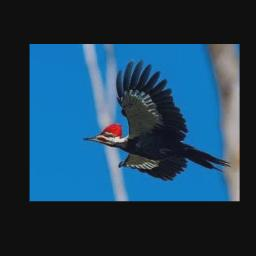Woodpecker: (84, 59, 231, 180)
